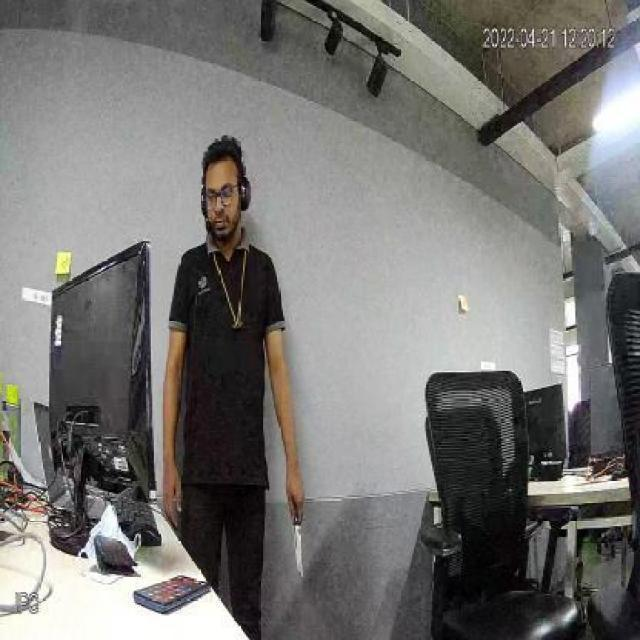-: (291, 512, 314, 586)
